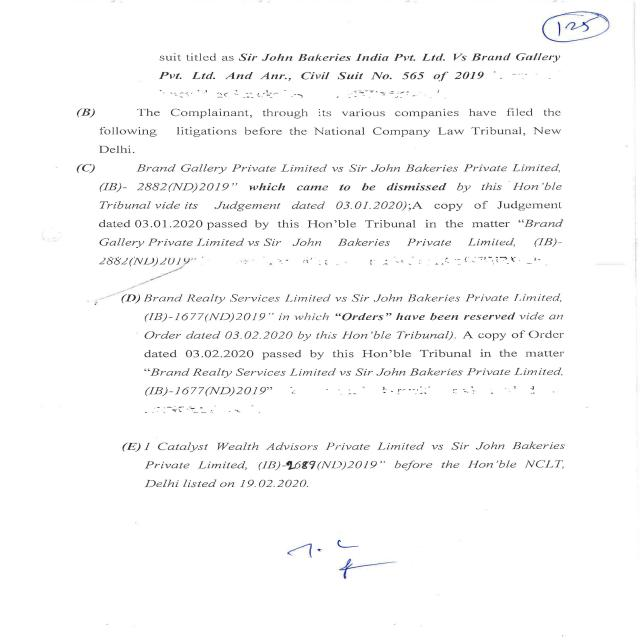page-number: (457, 0, 638, 52)
